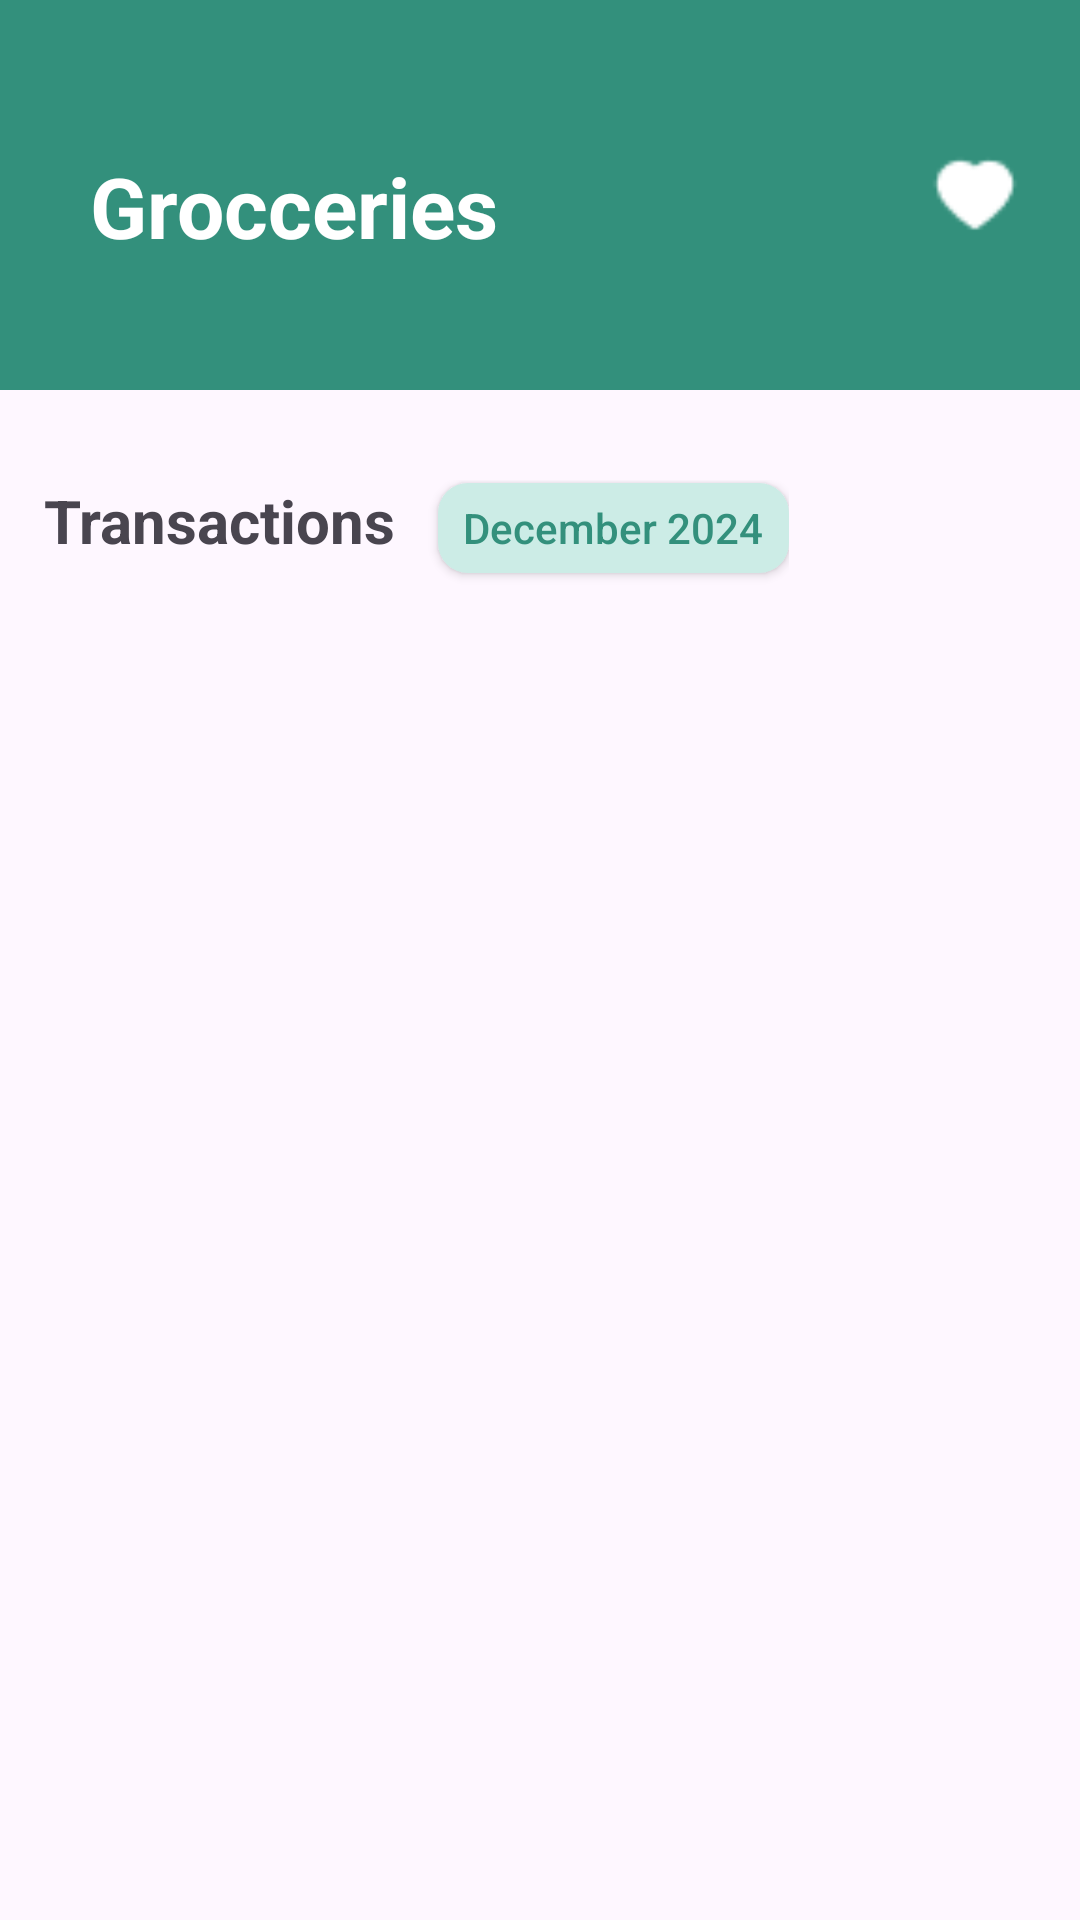

Icons on this 1080px×1920px Android screen, each with the point to tap as point (x, y):
love: point (975, 195)
